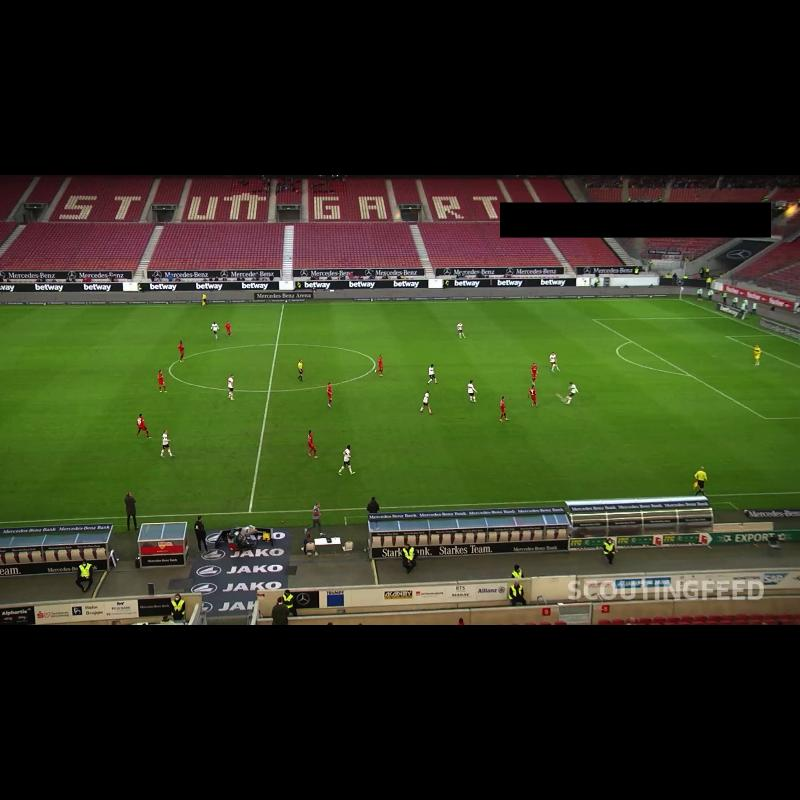cross_recipient_zone: (593, 317, 800, 418)
crossing_player_zone: (640, 419, 800, 494), (497, 299, 725, 321), (0, 308, 61, 327)
pitch: (0, 299, 800, 523)
